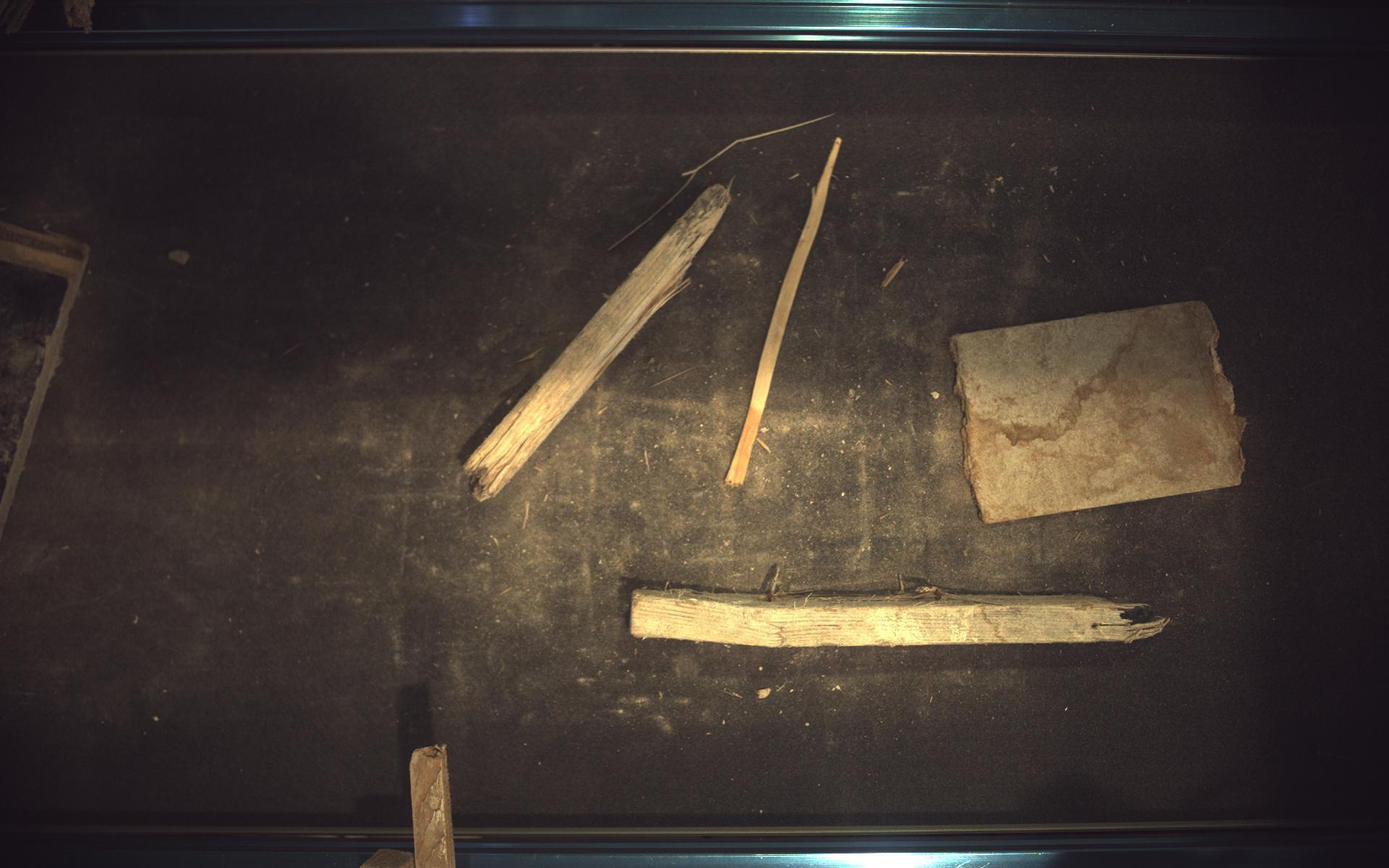wood: (464, 184, 732, 501), (632, 566, 1172, 648), (726, 136, 844, 487)
